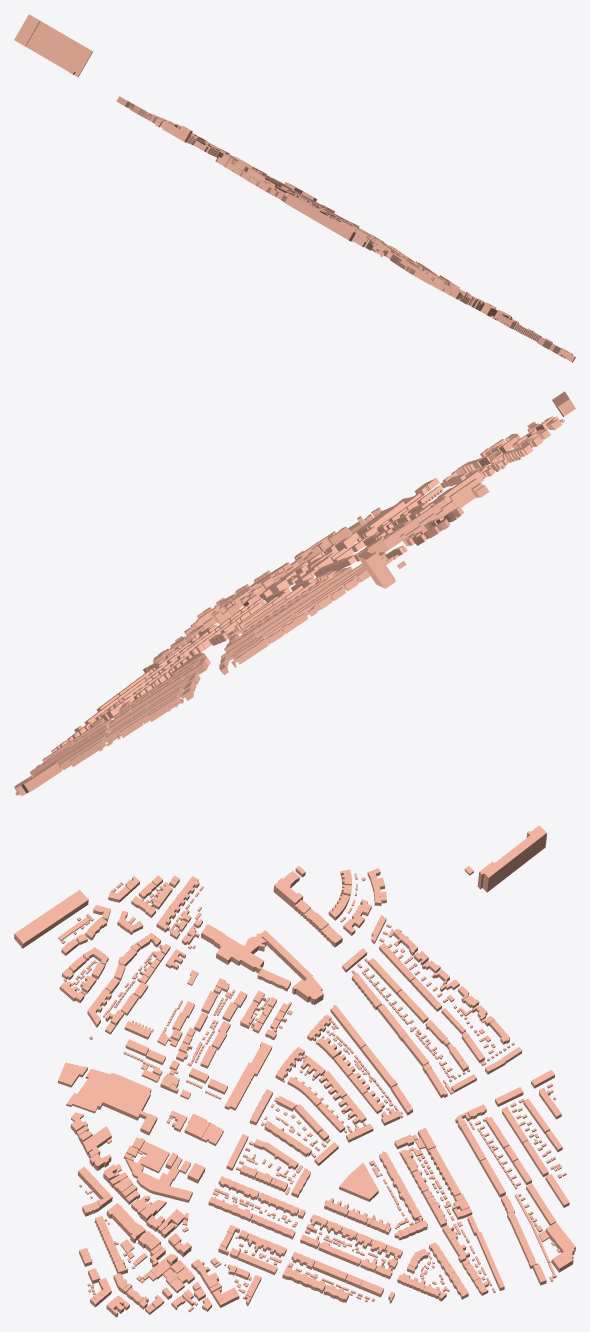
3 renders of one model, top to bottom at view 1: azimuth 30°, elevation 25°; view 2: azimuth 150°, elevation 25°; view 3: azimuth 270°, elevation 25°, orthographic. The views are drawn at different scales.
Size of the model in its own units: 562 by 423 by 695.
